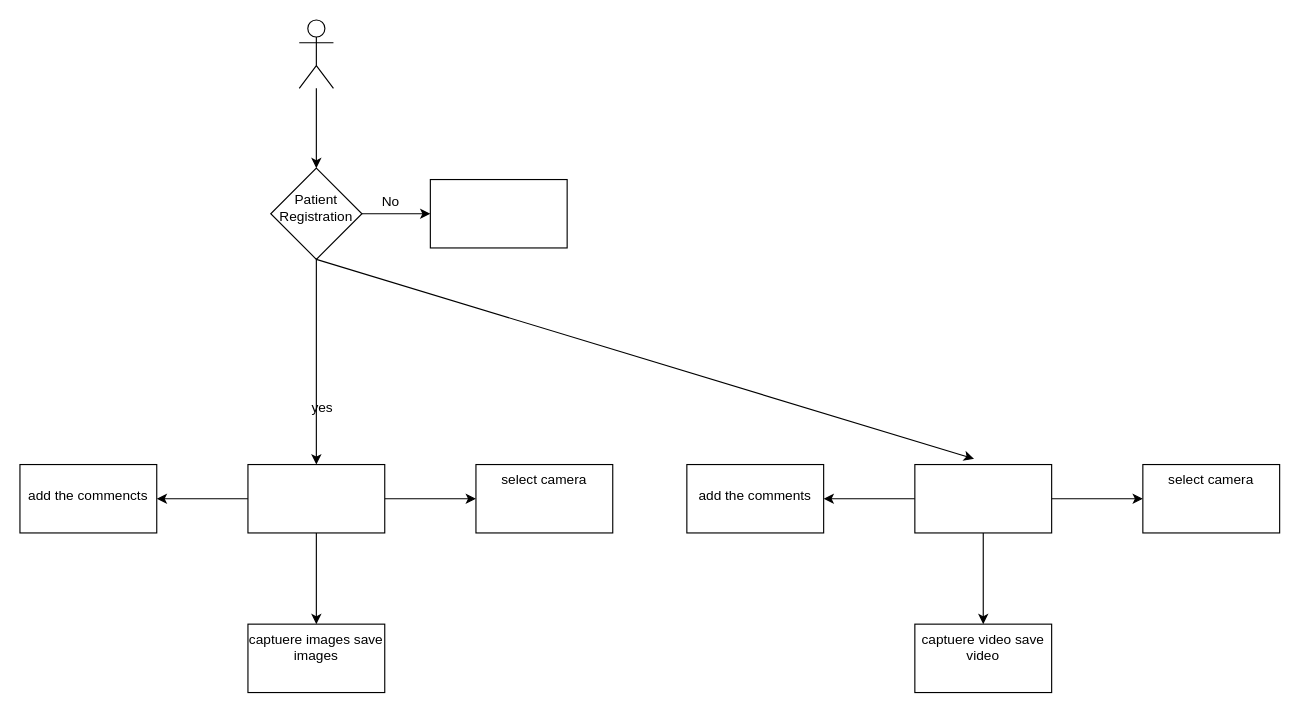
This 1300x713 diagram has some shape labels left out. The shapes that lost their labels are listed below. From the top down, each one's centre as x and y in pixels, then its label:
At point (498, 213): "Error massage".
At point (316, 498): "Capture image page".
At point (983, 498): "Capture video page".
